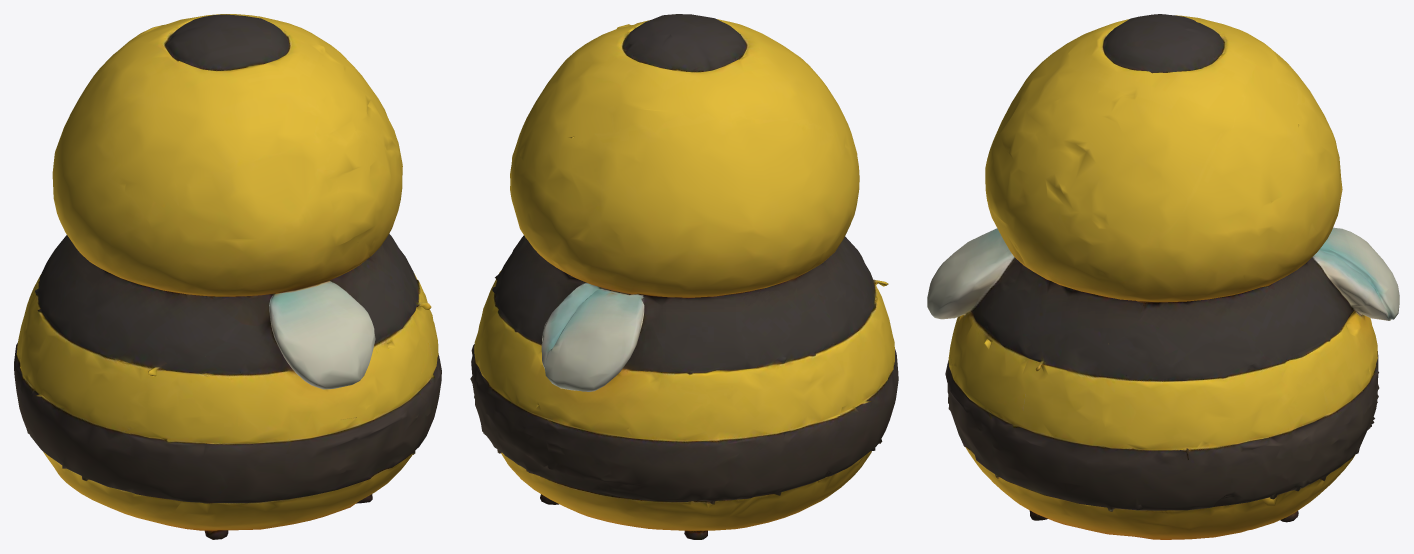
The model's file is body.glb.
The picture shows the model from 3 angles, left to right: view 1: azimuth 30°, elevation 25°; view 2: azimuth 150°, elevation 25°; view 3: azimuth 270°, elevation 25°; orthographic projection.
Visible parts, largest first — view 1: tripo_node_692cd29c-8c4c-4eb5-9d5b-e45f5cc4cb90; view 2: tripo_node_692cd29c-8c4c-4eb5-9d5b-e45f5cc4cb90; view 3: tripo_node_692cd29c-8c4c-4eb5-9d5b-e45f5cc4cb90.
Boxes of the visible parts, x1=… form: tripo_node_692cd29c-8c4c-4eb5-9d5b-e45f5cc4cb90: x1=14, y1=14, x2=441, y2=539; tripo_node_692cd29c-8c4c-4eb5-9d5b-e45f5cc4cb90: x1=470, y1=14, x2=898, y2=539; tripo_node_692cd29c-8c4c-4eb5-9d5b-e45f5cc4cb90: x1=927, y1=14, x2=1399, y2=539.
Size of the model in its own units: 0.8845 by 1 by 0.9367.
1 material, 1 textured.
